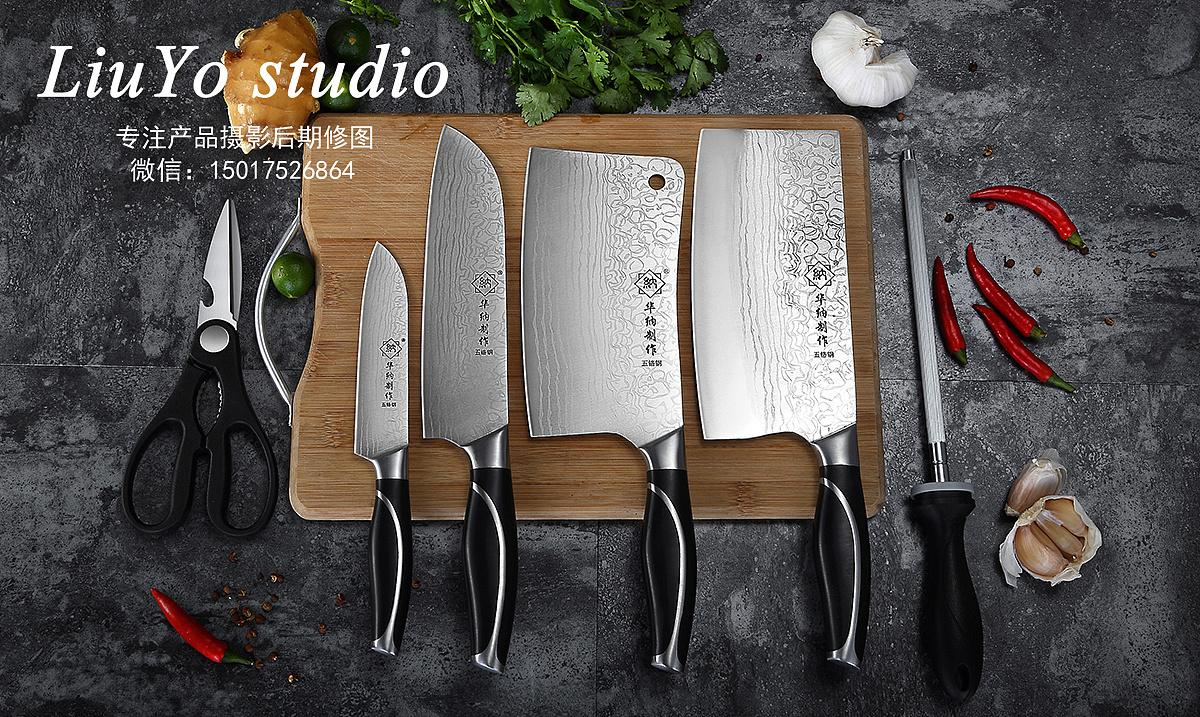knife: (291, 98, 920, 697)
